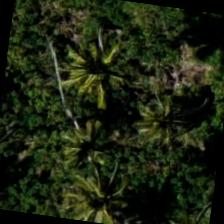Kelapa_Sawit: (109, 72, 211, 174), (44, 23, 146, 125), (68, 59, 169, 161), (39, 93, 140, 195), (52, 156, 151, 223), (0, 154, 93, 221)
